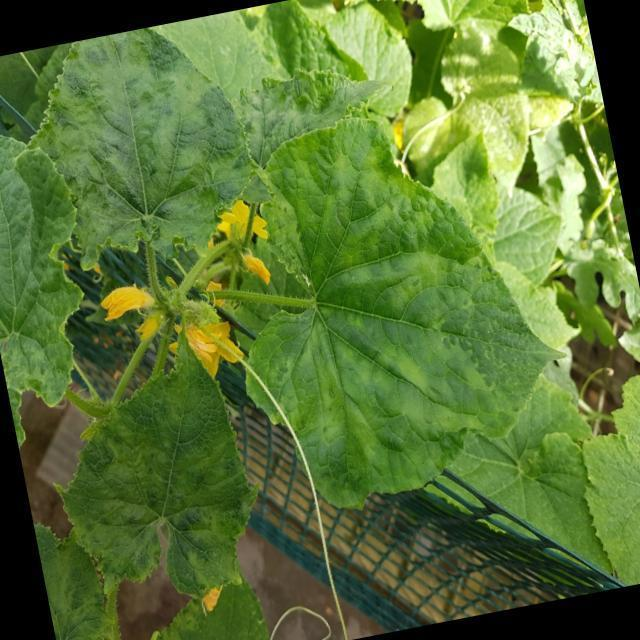Mosaic Virus: (218, 112, 578, 492), (35, 308, 272, 637), (21, 15, 254, 254)
